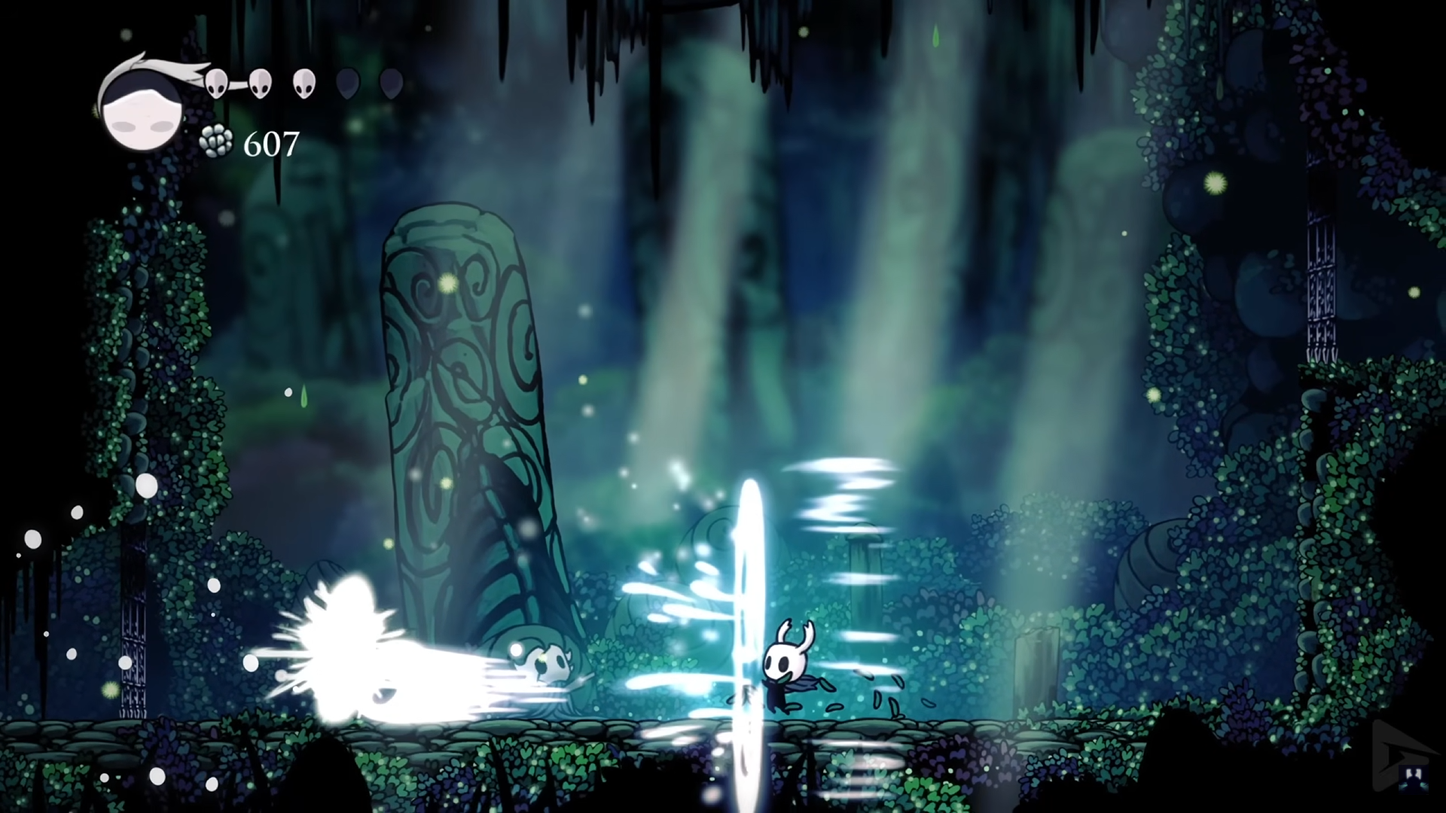HK: (755, 614, 816, 714)
